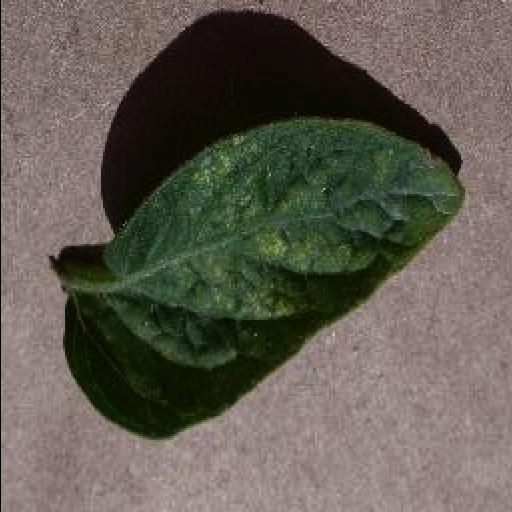disease_tomato: (61, 115, 463, 437)
